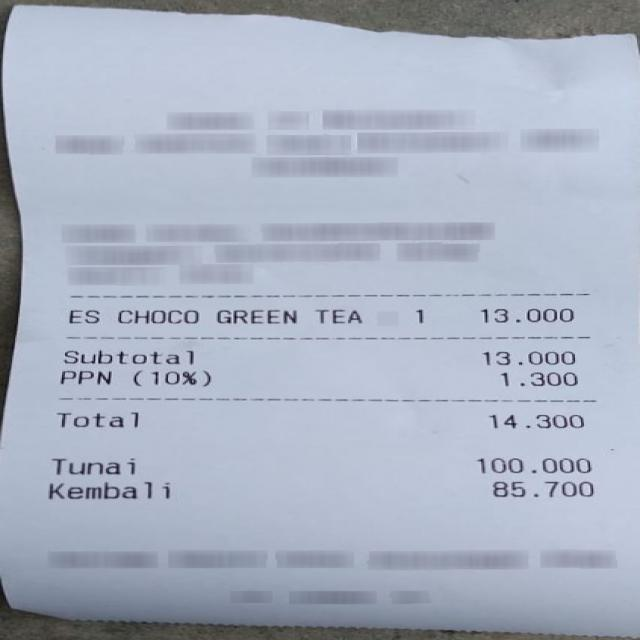text: (45, 481, 174, 499), (62, 349, 198, 364), (53, 410, 141, 429), (50, 457, 138, 476), (492, 480, 592, 496), (474, 458, 587, 472), (132, 370, 213, 386), (478, 308, 569, 322), (499, 369, 575, 385), (487, 413, 580, 426), (480, 350, 570, 363), (116, 309, 194, 323), (215, 309, 292, 321), (59, 369, 109, 384), (314, 309, 358, 321), (409, 306, 428, 326), (66, 310, 97, 322)
